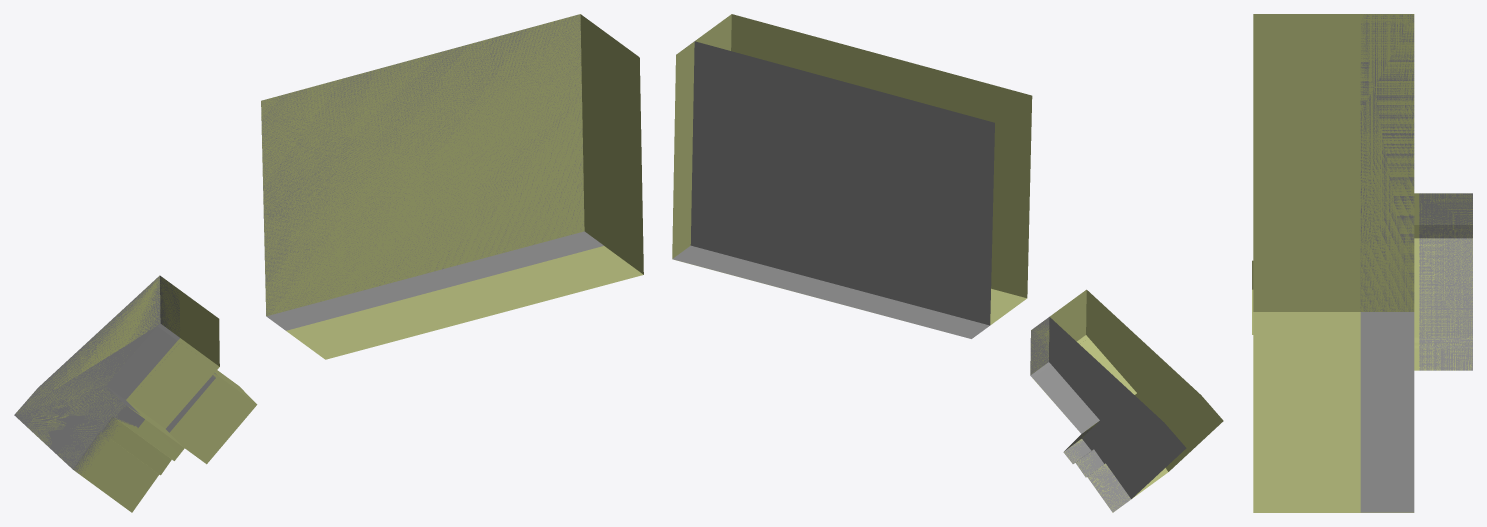
3 renders of one model, left to right at view 1: azimuth 30°, elevation 25°; view 2: azimuth 150°, elevation 25°; view 3: azimuth 270°, elevation 25°, orthographic. The views are drawn at different scales.
Visible parts, largest first — view 1: 0_1_2_0_3_0_2_3_1; view 2: 0_1_2_0_3_0_2_3_1; view 3: 0_1_2_0_3_0_2_3_1.
Part boxes in pixels (bbox=[...]): 0_1_2_0_3_0_2_3_1: bbox=[14, 14, 643, 512]; 0_1_2_0_3_0_2_3_1: bbox=[672, 14, 1223, 512]; 0_1_2_0_3_0_2_3_1: bbox=[1252, 14, 1472, 512].
Size of the model in its own units: 48.09 by 29.54 by 12.34.
